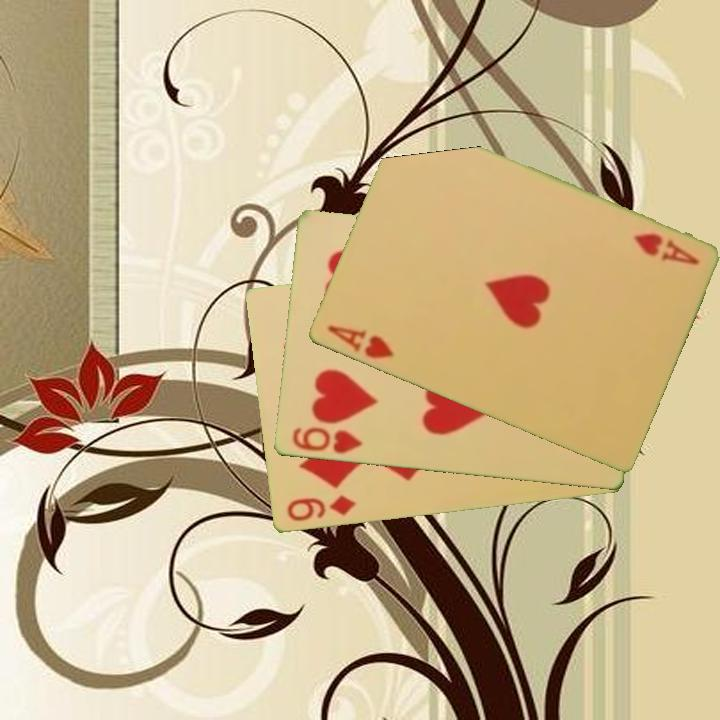6h: (288, 424, 364, 457)
9d: (283, 492, 359, 525)
Ah: (323, 321, 397, 362), (629, 229, 702, 268)
